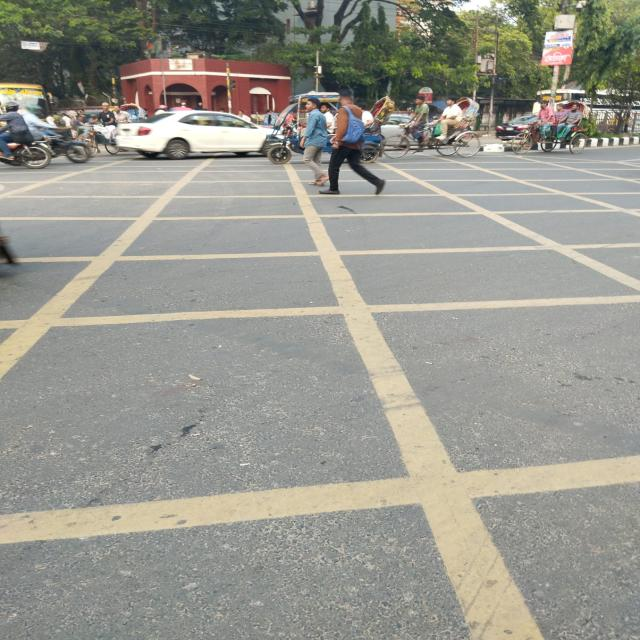person: (322, 90, 384, 194), (301, 97, 328, 186)
